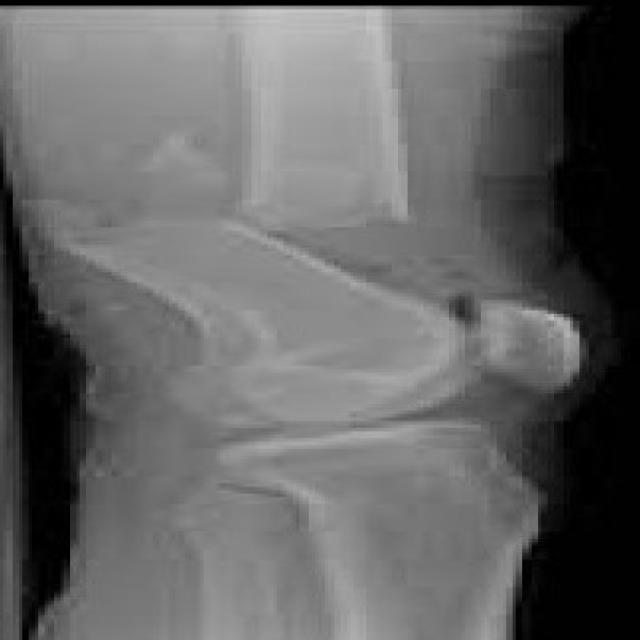comminuted: (8, 145, 602, 478)
